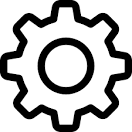camera: (0, 1, 131, 130)
